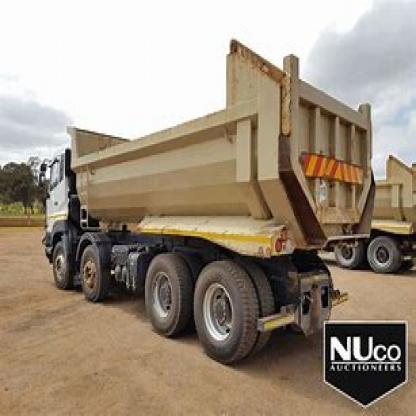dump_truck: (27, 32, 370, 371)
